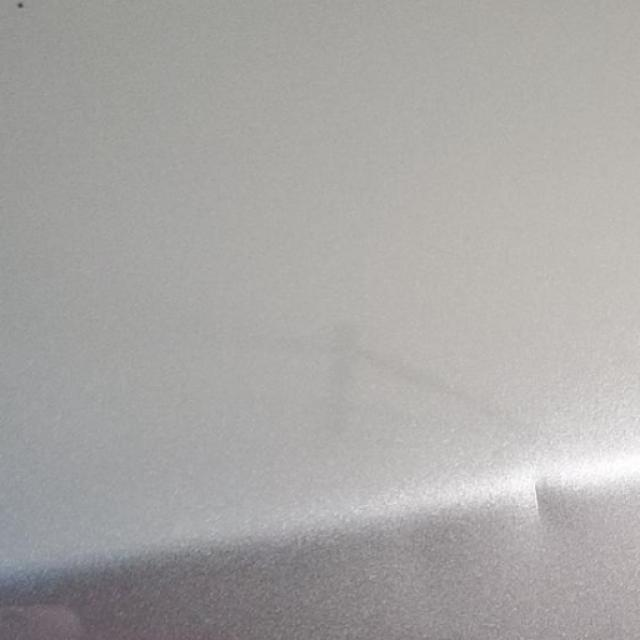dents: (505, 451, 581, 545)
